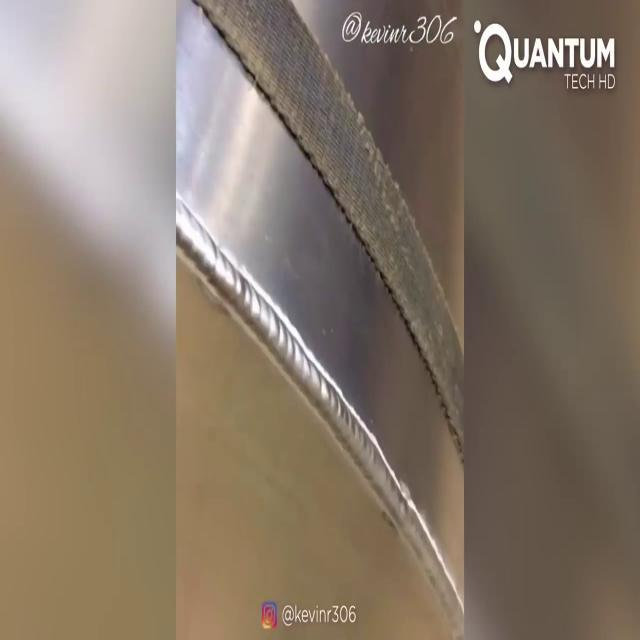Good Welding: (178, 196, 330, 434), (332, 434, 460, 572)
